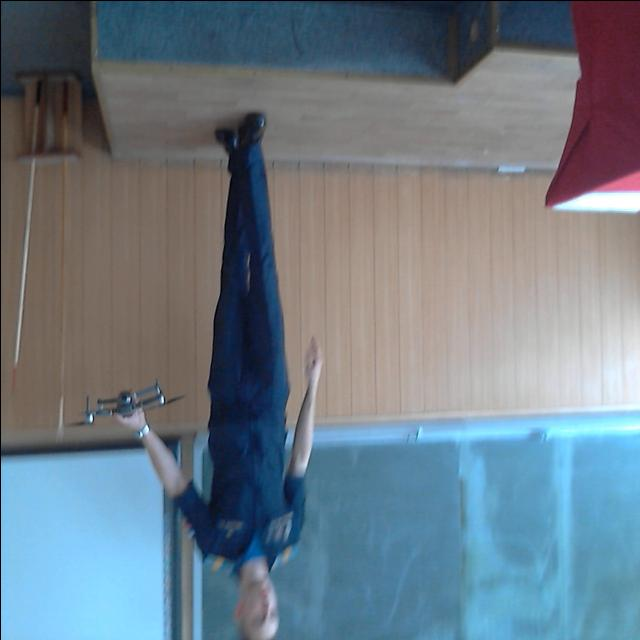drone: (66, 382, 188, 435)
